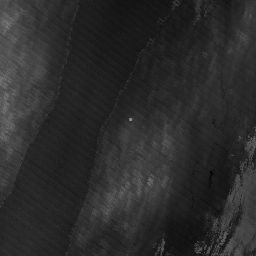Target: (127, 116, 133, 123)
